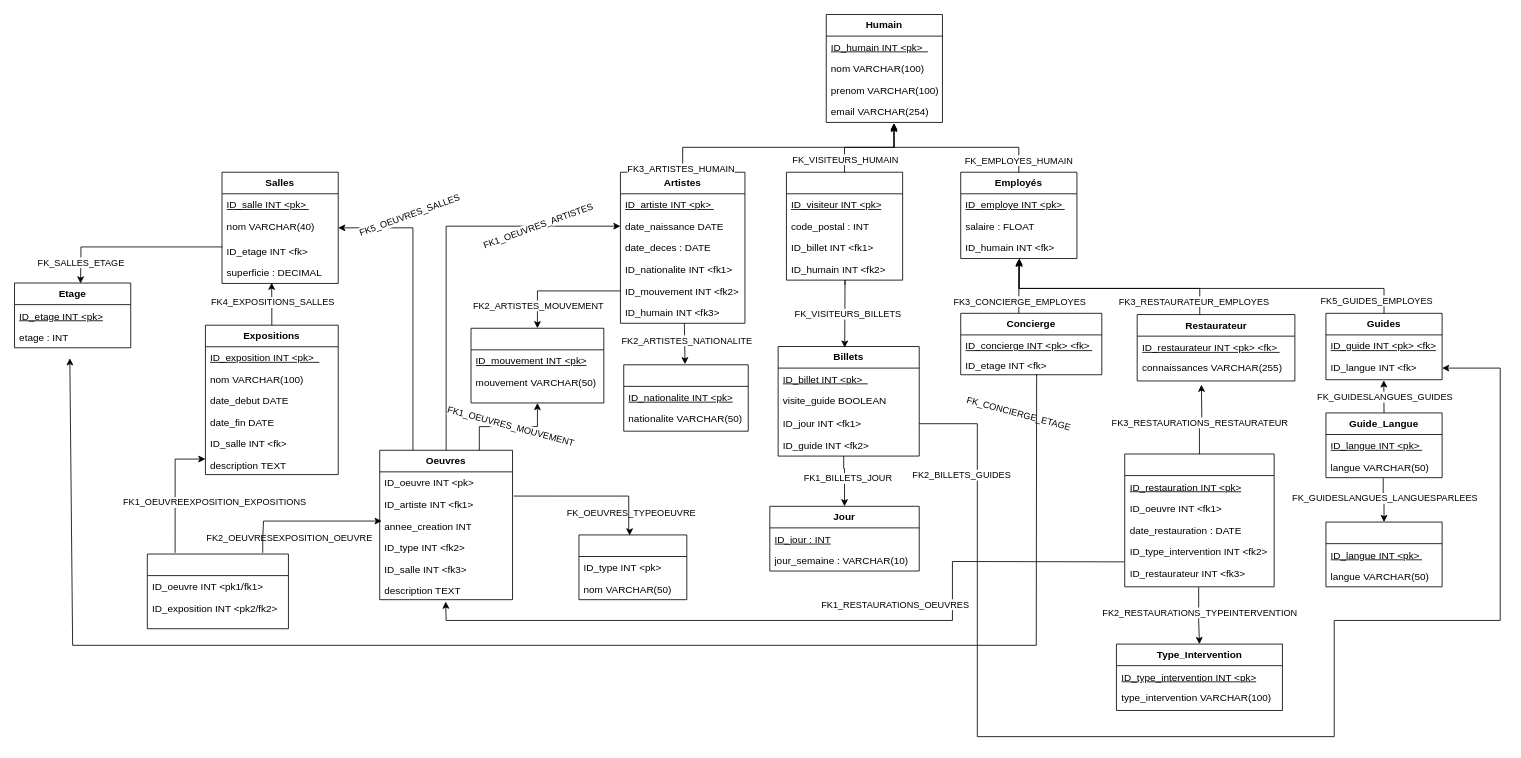
Image size: 1521x758. Some labels were removed from this diagram. The shapes that lost their labels are listed below. From the top down, each one's box as (x1, y1, x2, y2) in pixels, then its label:
(786, 171, 903, 280): Visiteurs
(470, 327, 604, 403): Mouvement_Artistique
(623, 364, 748, 431): Nationalité
(1124, 453, 1274, 587): Restaurations
(578, 534, 687, 600): Type œuvre
(1325, 521, 1442, 587): Langues_Parlées
(146, 553, 288, 629): Oeuvre_Exposition
